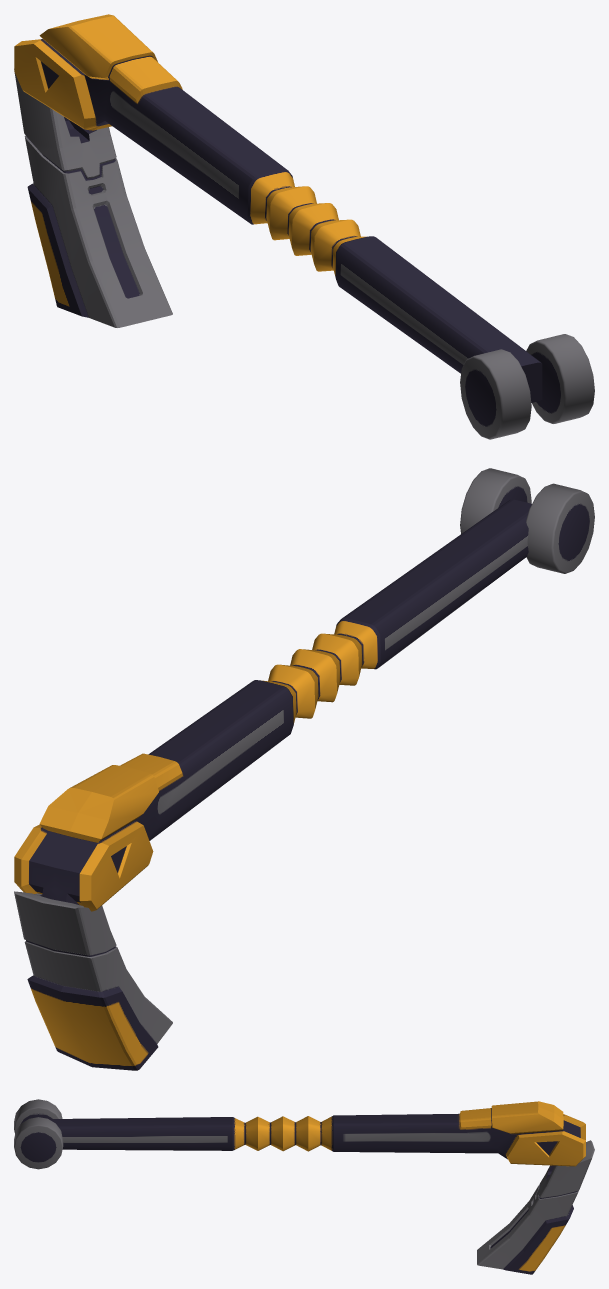
File: Chariot03_tiechui01.FBX
3 views of the same model, one above another, from view 1: azimuth 30°, elevation 25°; view 2: azimuth 150°, elevation 25°; view 3: azimuth 270°, elevation 25° (orthographic). The views are drawn at different scales.
Parts seen in each view (by area): view 1: Chariot03_tiechui01; view 2: Chariot03_tiechui01; view 3: Chariot03_tiechui01.
Boxes of the visible parts, x1,y1,x2,y2 form: Chariot03_tiechui01: (14,14,594,439); Chariot03_tiechui01: (14,468,594,1070); Chariot03_tiechui01: (14,1099,594,1274).
Bounding box in the file's own units: 0.4857 × 1.37 × 4.56.
